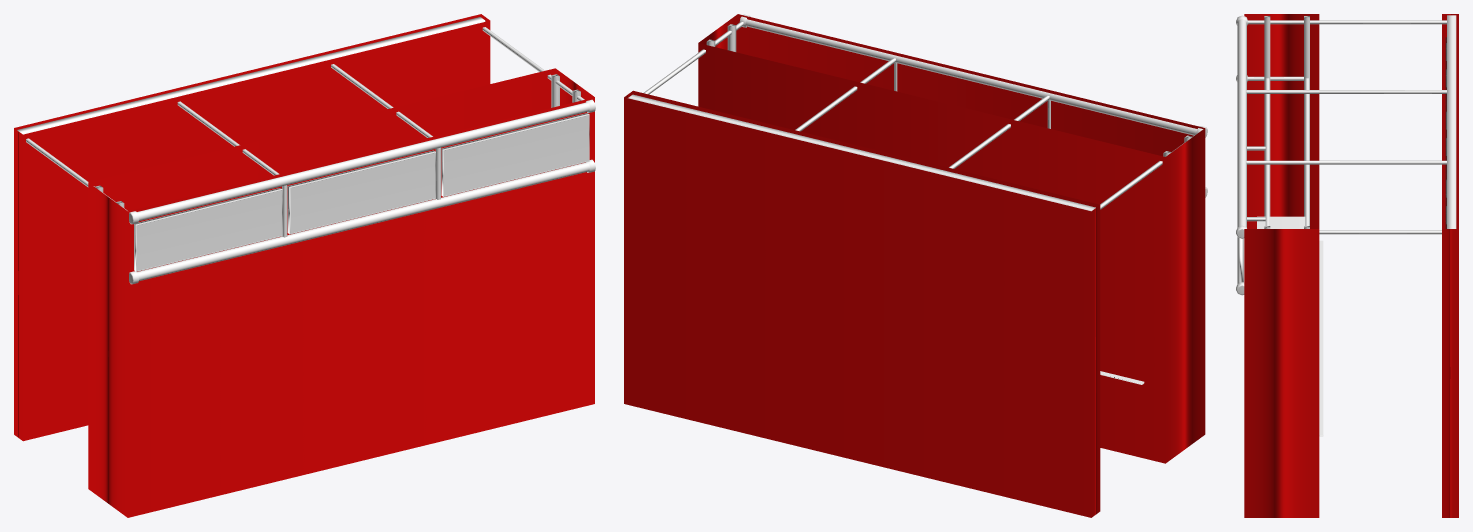
The model's file is reisebuero_stand_02.fbx.
3 views of the same model, side by side, from view 1: azimuth 30°, elevation 25°; view 2: azimuth 150°, elevation 25°; view 3: azimuth 270°, elevation 25° (orthographic). The views are drawn at different scales.
Parts seen in each view (by area): view 1: colmesh, reisebuero_stand_02; view 2: colmesh, reisebuero_stand_02; view 3: colmesh, reisebuero_stand_02.
Boxes of the visible parts, x1,y1,x2,y2 form: colmesh: (14, 14, 594, 517); reisebuero_stand_02: (17, 17, 595, 284); colmesh: (624, 14, 1205, 517); reisebuero_stand_02: (628, 14, 1207, 384); colmesh: (1244, 14, 1458, 517); reisebuero_stand_02: (1236, 15, 1456, 436).
Size of the model in its own units: 673 by 422 by 295.
